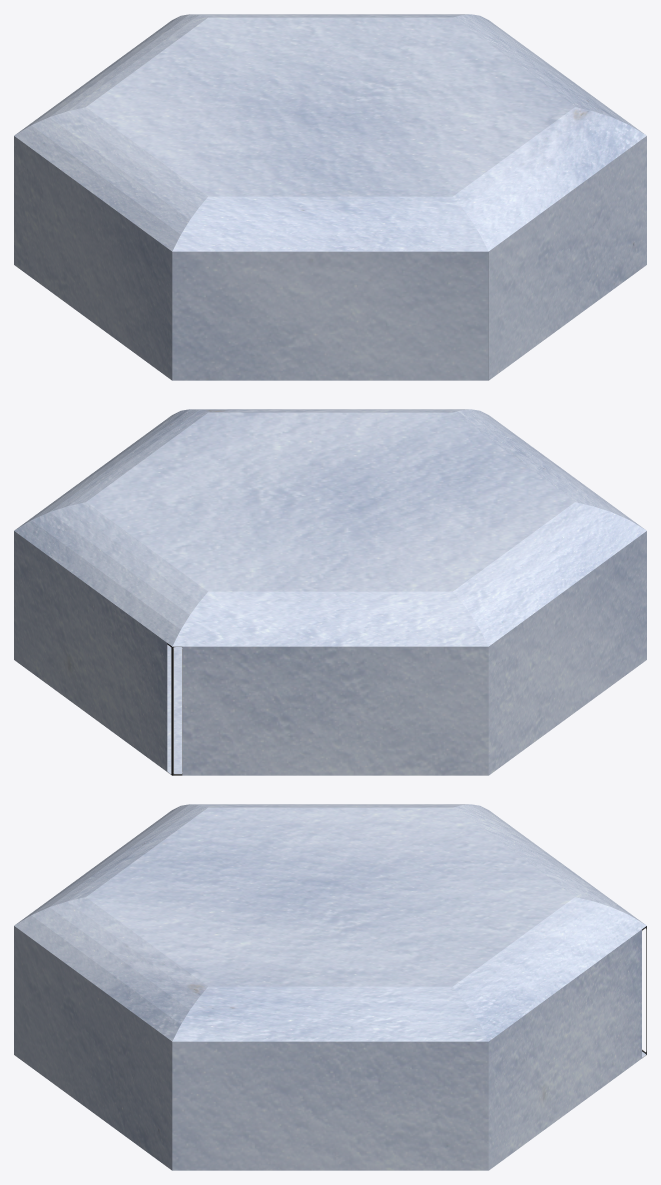
File: DAEsnow.dae
3 views of the same model, one above another, from view 1: azimuth 30°, elevation 25°; view 2: azimuth 150°, elevation 25°; view 3: azimuth 270°, elevation 25° (orthographic).
Visible parts, largest first — view 1: PolyLowRes; view 2: PolyLowRes; view 3: PolyLowRes.
Part boxes in pixels (bbox=[...]): PolyLowRes: bbox=[14, 14, 646, 380]; PolyLowRes: bbox=[14, 409, 646, 775]; PolyLowRes: bbox=[14, 804, 646, 1170].
Bounding box in the file's own units: 1.73 × 2 × 0.55.
1 material, 1 textured.
